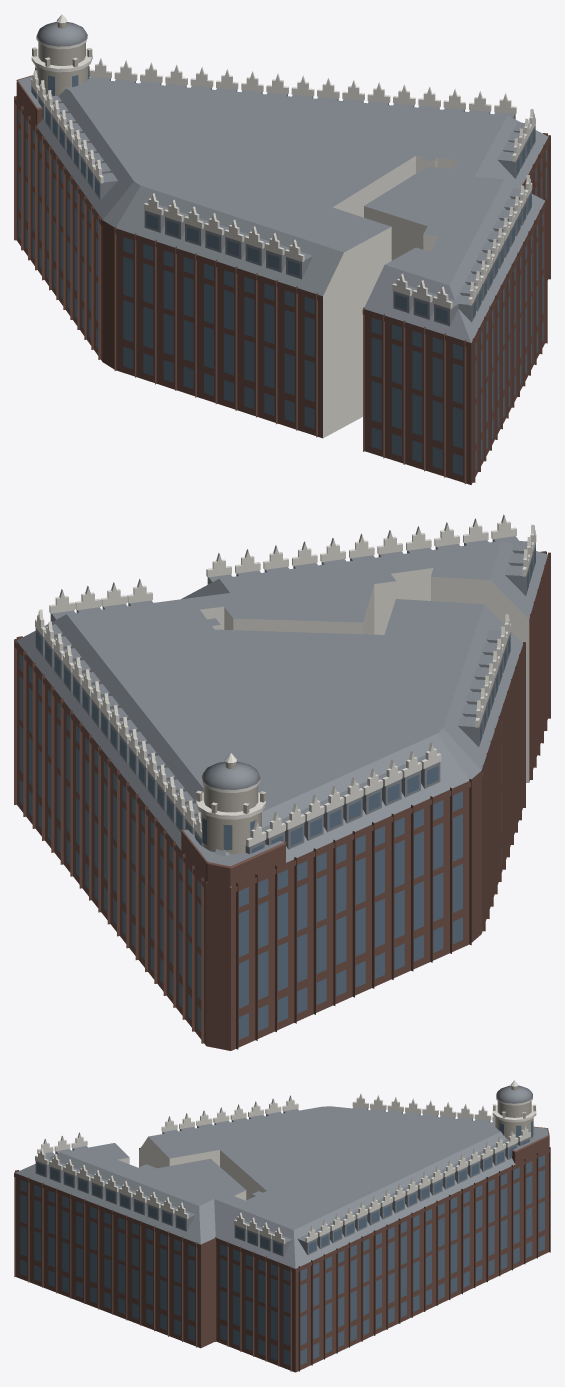
The model's file is amsterdam-scheepvaarthuis.glb.
3 views of the same model, one above another, from view 1: azimuth 30°, elevation 25°; view 2: azimuth 150°, elevation 25°; view 3: azimuth 270°, elevation 25° (orthographic). The views are drawn at different scales.
Parts seen in each view (by area): view 1: Scheepvaarthuis; view 2: Scheepvaarthuis; view 3: Scheepvaarthuis.
Part boxes in pixels (x1,y1,x2,y2): Scheepvaarthuis: (14,14,550,484); Scheepvaarthuis: (14,514,550,1050); Scheepvaarthuis: (14,1080,550,1372).
Bounding box in the file's own units: 65.47 × 35 × 98.58.
